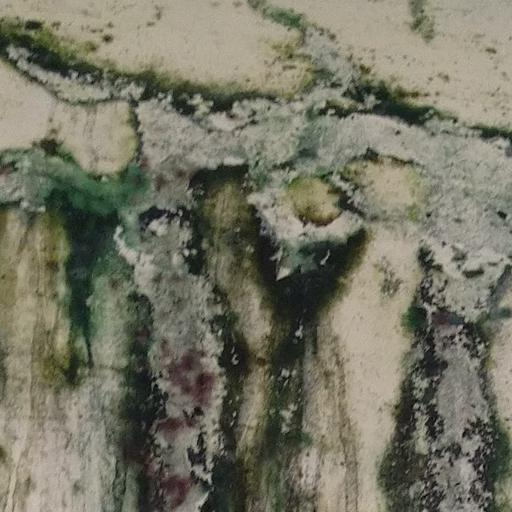algae: (16, 10, 512, 512)
